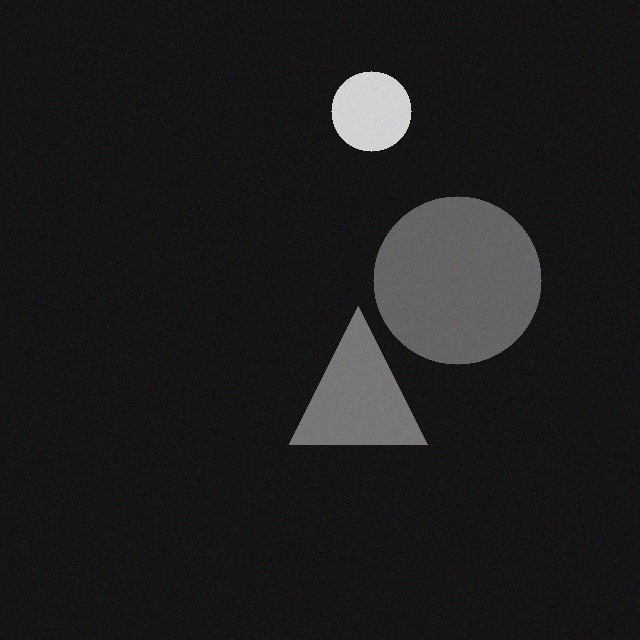circle: (359, 205, 527, 373), (317, 80, 397, 160)
triangle: (275, 315, 413, 453)
